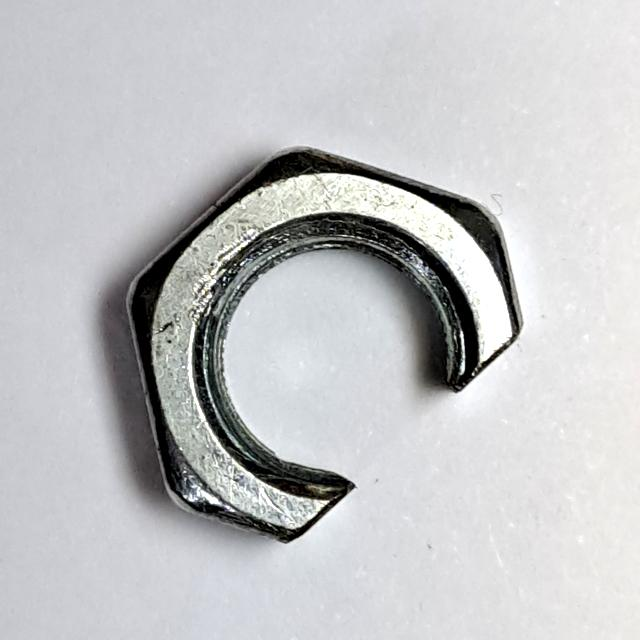Fracture: (117, 115, 545, 561)
